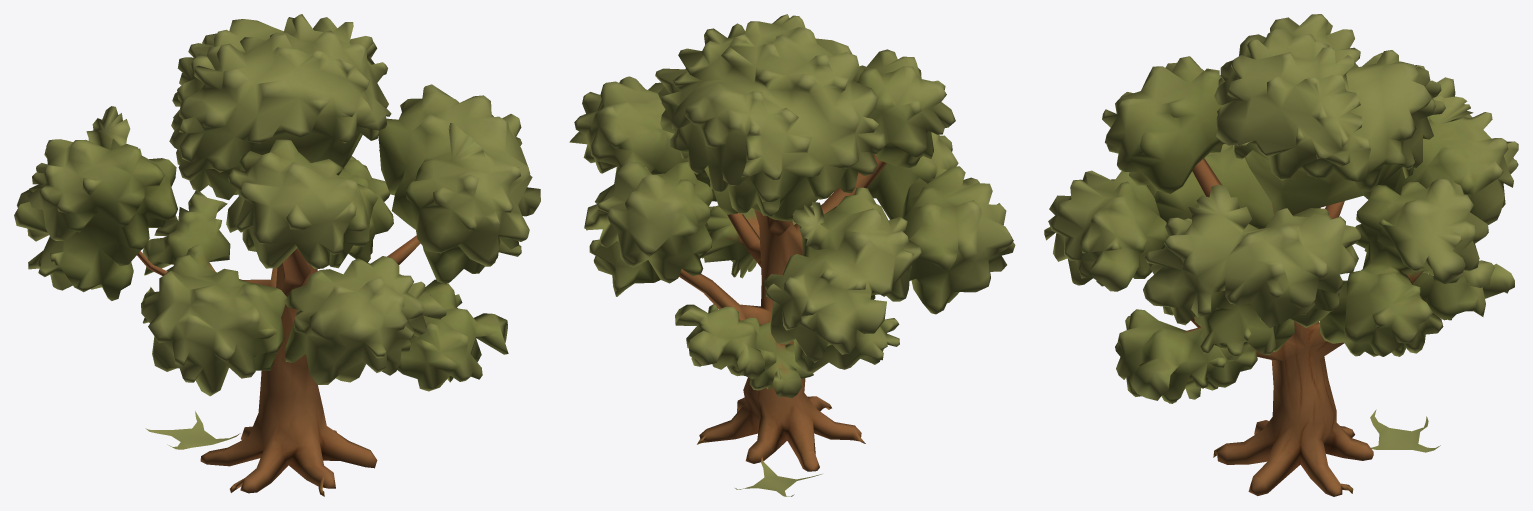
File: 1792578074392-arvore_dois.glb
The picture shows the model from 3 angles, left to right: view 1: azimuth 30°, elevation 25°; view 2: azimuth 150°, elevation 25°; view 3: azimuth 270°, elevation 25°; orthographic projection. The views are drawn at different scales.
Parts seen in each view (by area): view 1: tripo_node_4a6748ee-f52b-4d91-a0ba-804ce628838a; view 2: tripo_node_4a6748ee-f52b-4d91-a0ba-804ce628838a; view 3: tripo_node_4a6748ee-f52b-4d91-a0ba-804ce628838a.
Part boxes in pixels (box(x1,y1,x2,y2)): tripo_node_4a6748ee-f52b-4d91-a0ba-804ce628838a: box(14, 14, 540, 496); tripo_node_4a6748ee-f52b-4d91-a0ba-804ce628838a: box(569, 14, 1015, 496); tripo_node_4a6748ee-f52b-4d91-a0ba-804ce628838a: box(1044, 14, 1518, 496).
Bounding box in the file's own units: 0.998 × 0.998 × 0.998.
Materials: 1 (1 with a texture image).
